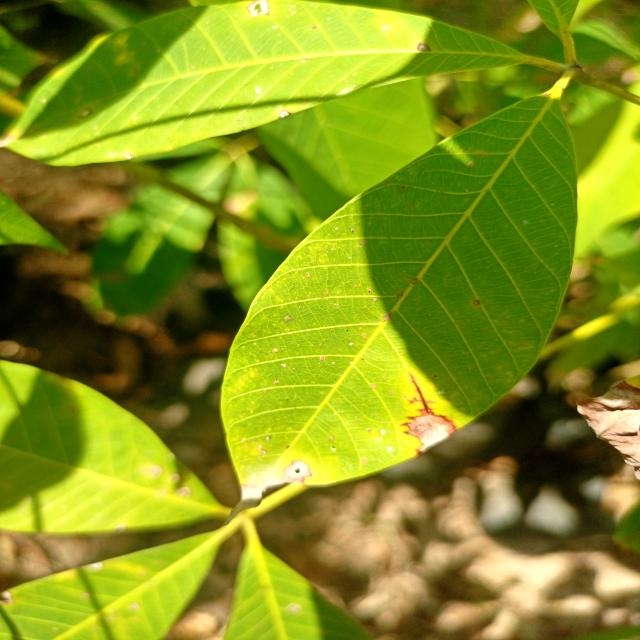Colletotrichum: (397, 294, 403, 297)
Corynespora: (407, 372, 436, 416)
Leaf-Blight: (565, 380, 640, 480), (222, 459, 312, 525), (408, 414, 454, 451), (248, 0, 270, 16)
